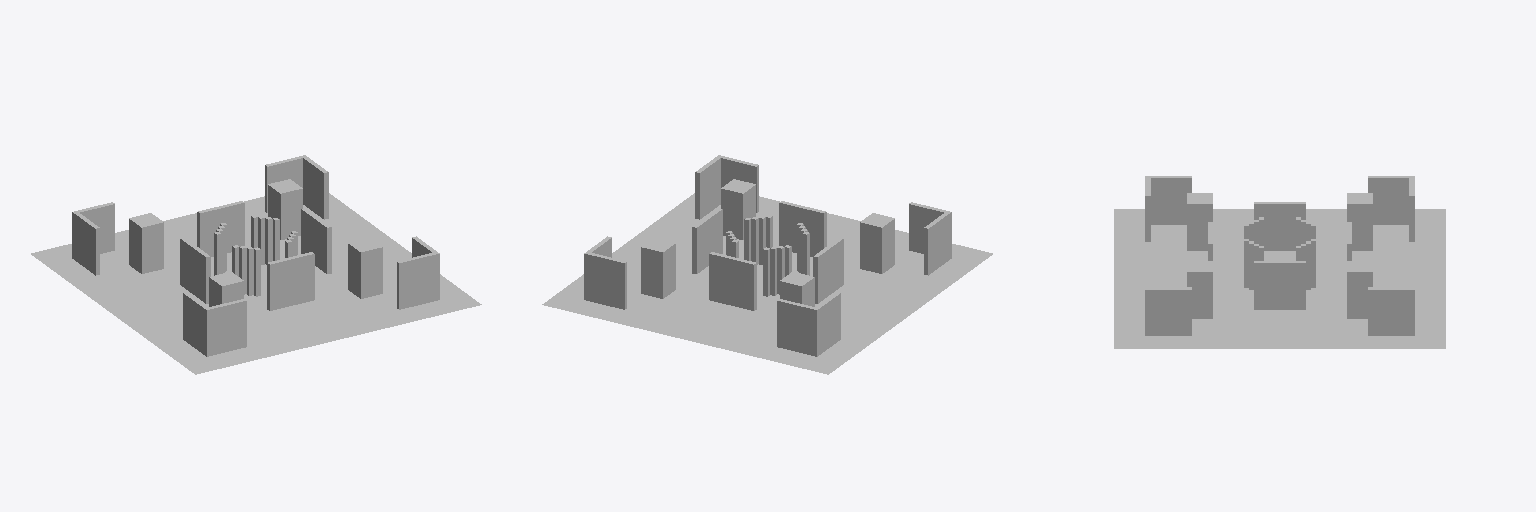
Rendered from bigArena.obj.
3 renders of one model, left to right at view 1: azimuth 30°, elevation 25°; view 2: azimuth 150°, elevation 25°; view 3: azimuth 270°, elevation 25°, orthographic.
Visible parts, largest first — view 1: Plane.001; view 2: Plane.001; view 3: Plane.001.
Boxes of the visible parts, <box> form: Plane.001: <box>31,155,481,374</box>; Plane.001: <box>542,155,992,374</box>; Plane.001: <box>1114,176,1445,348</box>.
Bounding box in the file's own units: 1234 × 192 × 1234.